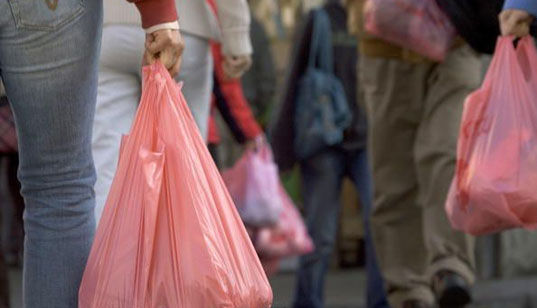plastic bag: (76, 59, 273, 308), (445, 34, 537, 238), (224, 132, 315, 262), (361, 1, 456, 61)
